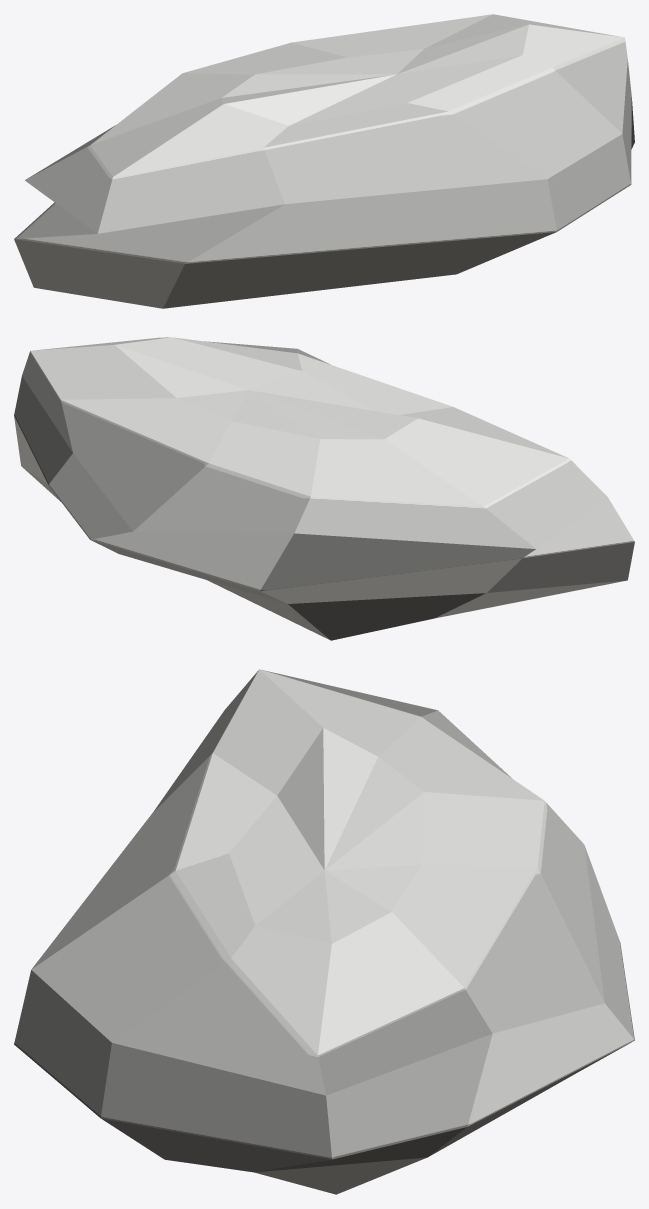
Rendered from piedra2contextura.fbx.
3 views of the same model, one above another, from view 1: azimuth 30°, elevation 25°; view 2: azimuth 150°, elevation 25°; view 3: azimuth 270°, elevation 25° (orthographic). The views are drawn at different scales.
Visible parts, largest first — view 1: pSphere1; view 2: pSphere1; view 3: pSphere1.
Part boxes in pixels (x1,y1,x2,y2): pSphere1: (14,14,634,308); pSphere1: (14,337,634,640); pSphere1: (14,669,634,1194).
Size of the model in its own units: 121 by 34.27 by 70.87.
1 material, 1 textured.
